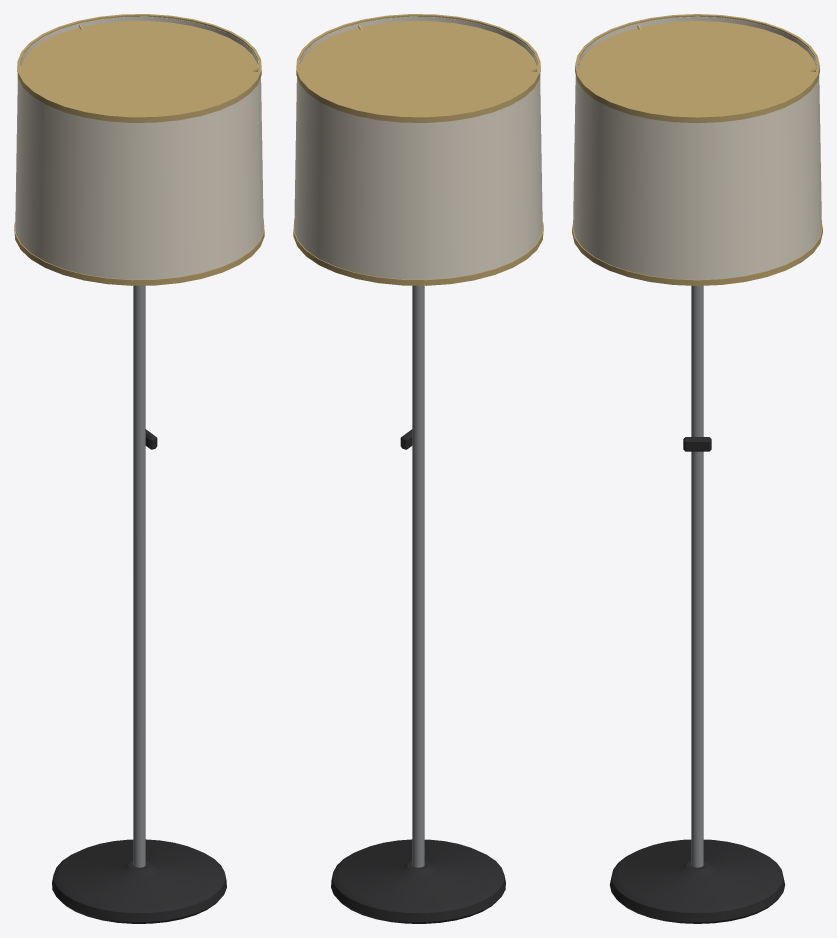
File: FloorLamp.fbx
The picture shows the model from 3 angles, left to right: view 1: azimuth 30°, elevation 25°; view 2: azimuth 150°, elevation 25°; view 3: azimuth 270°, elevation 25°; orthographic projection.
Parts seen in each view (by area): view 1: FloorLamp_Mesh; view 2: FloorLamp_Mesh; view 3: FloorLamp_Mesh.
Boxes of the visible parts, x1,y1,x2,y2 form: FloorLamp_Mesh: [14, 14, 264, 923]; FloorLamp_Mesh: [293, 14, 543, 923]; FloorLamp_Mesh: [572, 14, 822, 923].
Size of the model in its own units: 0.443 by 1.6 by 0.443.
